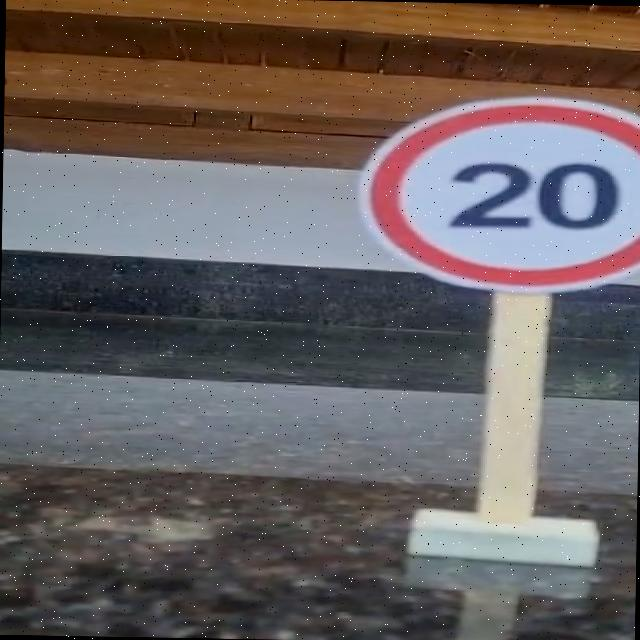Speed20: (339, 85, 640, 300)
